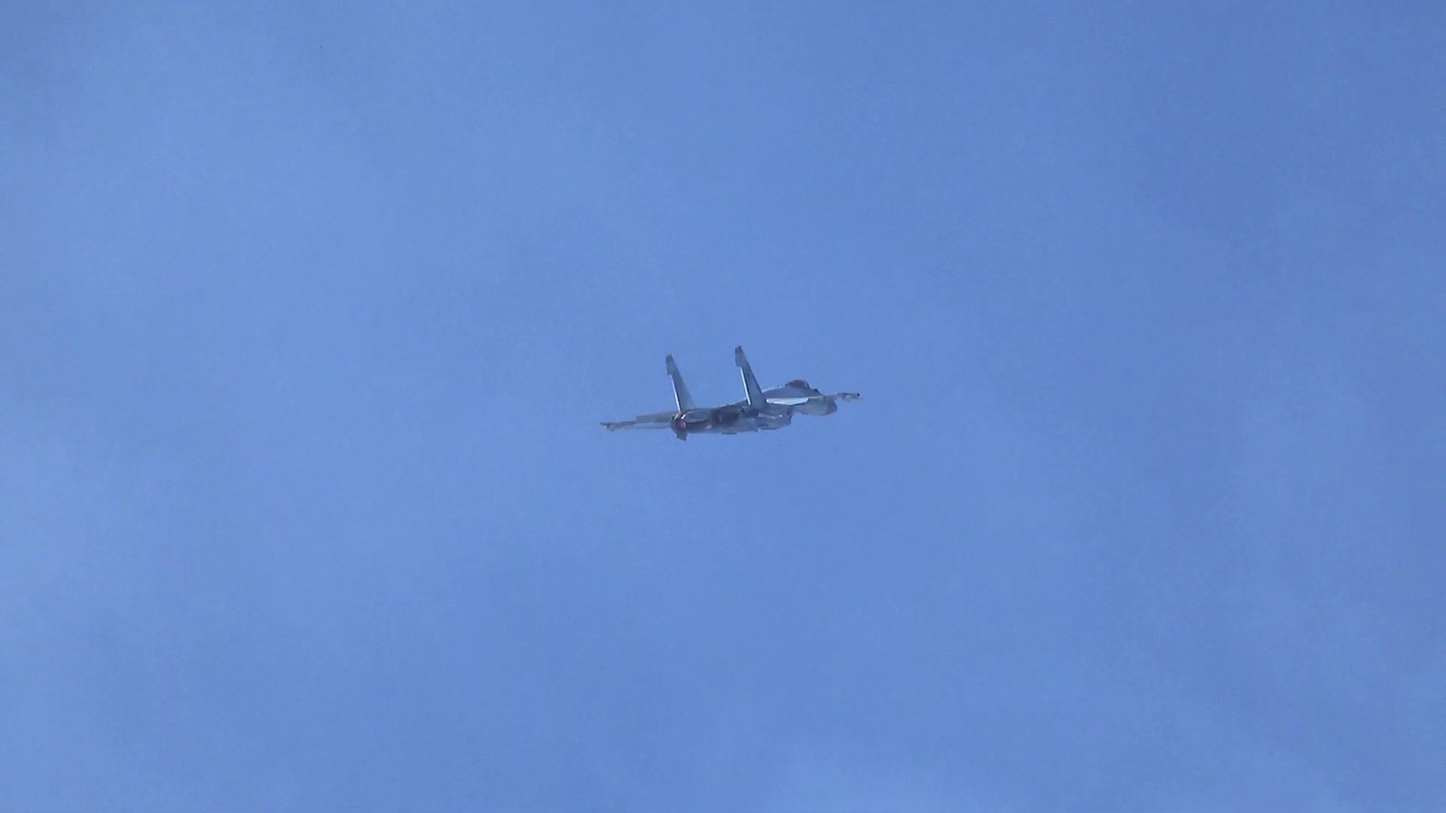Su35: (601, 345, 863, 441)
